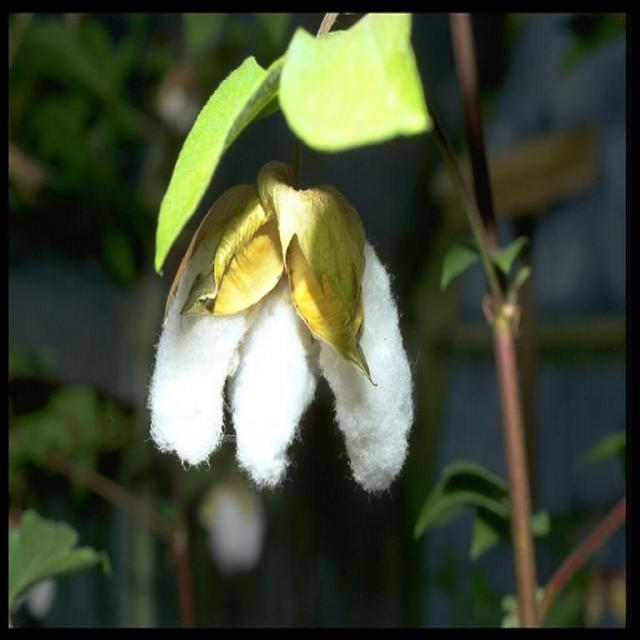Early_blight: (148, 181, 280, 466), (231, 276, 321, 493)
